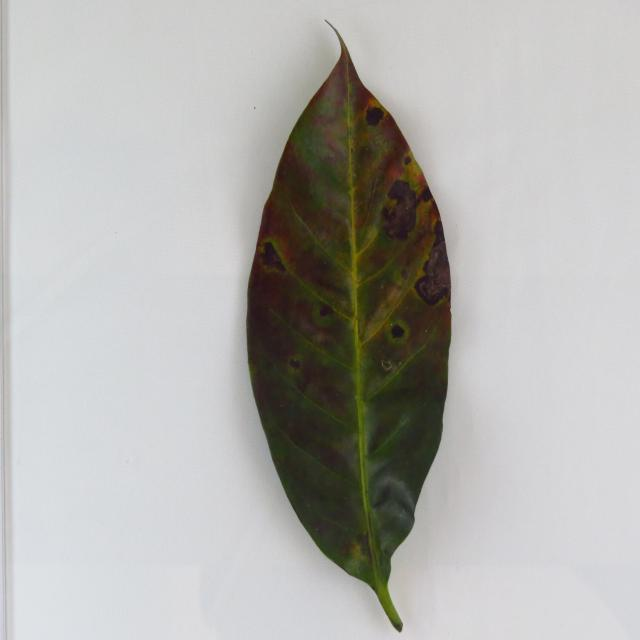DeficienciaNutricional-Fosforo: (246, 33, 451, 632)
